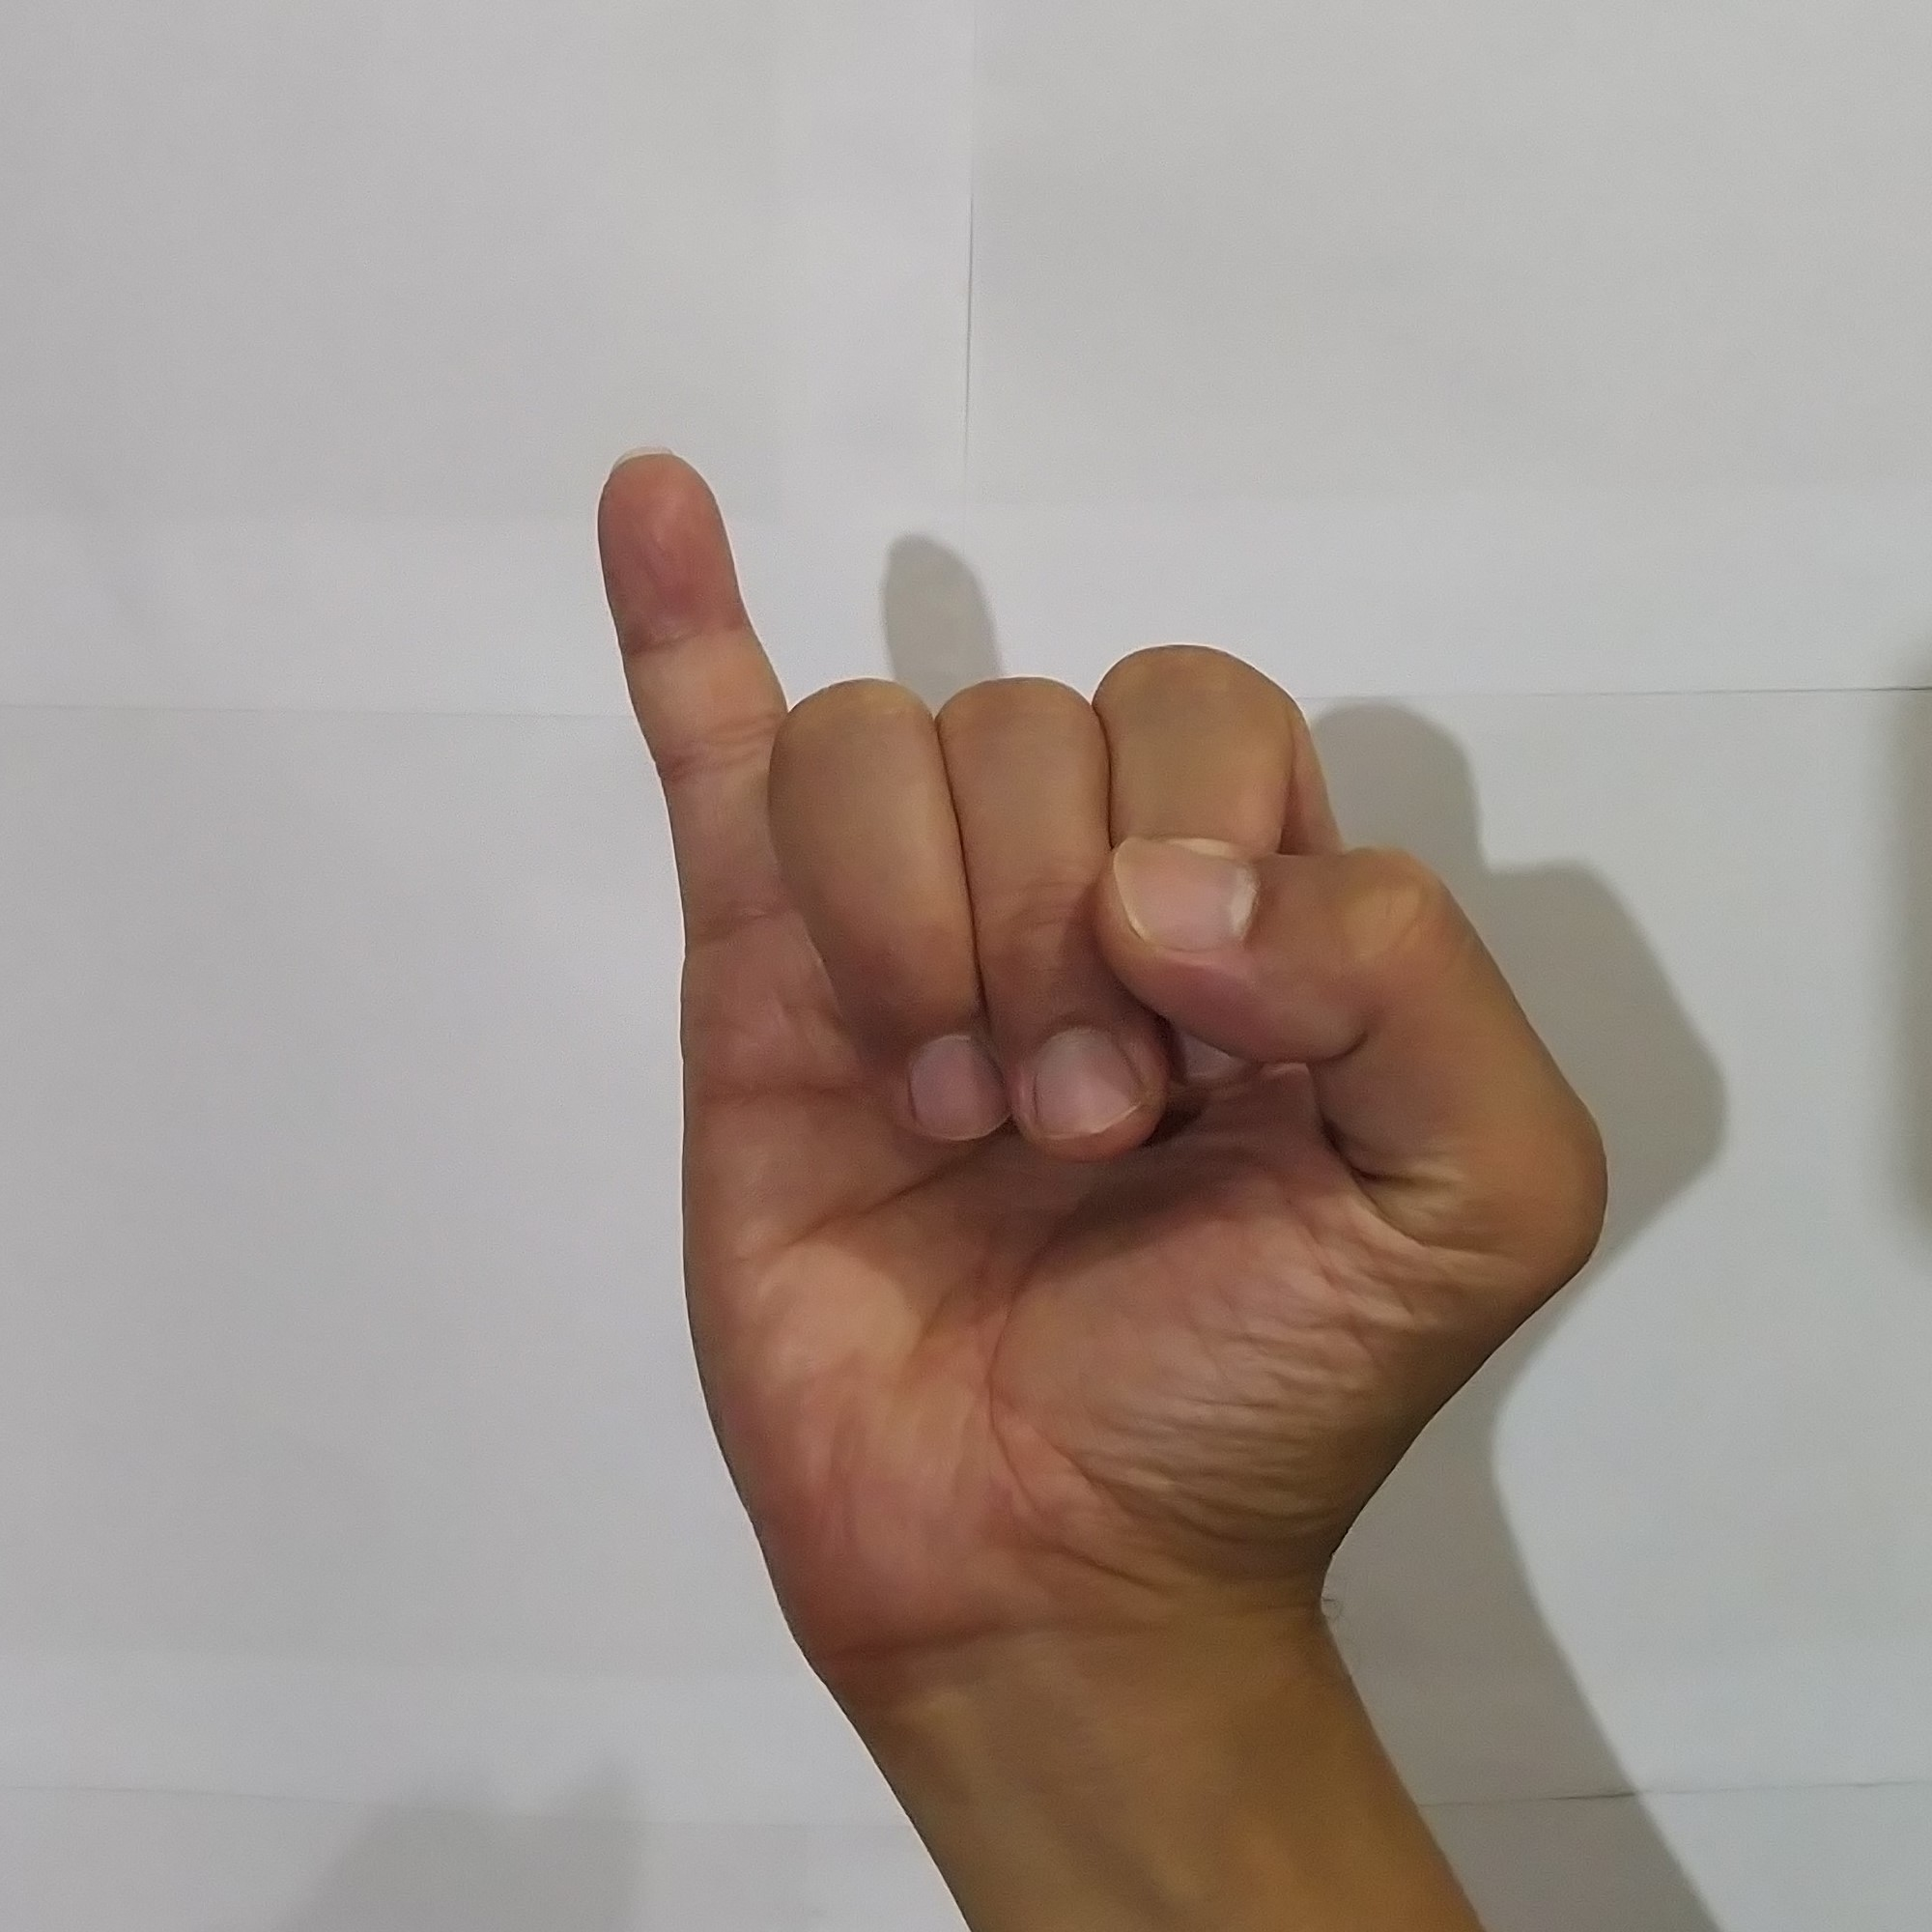I: (568, 426, 1633, 1612)
